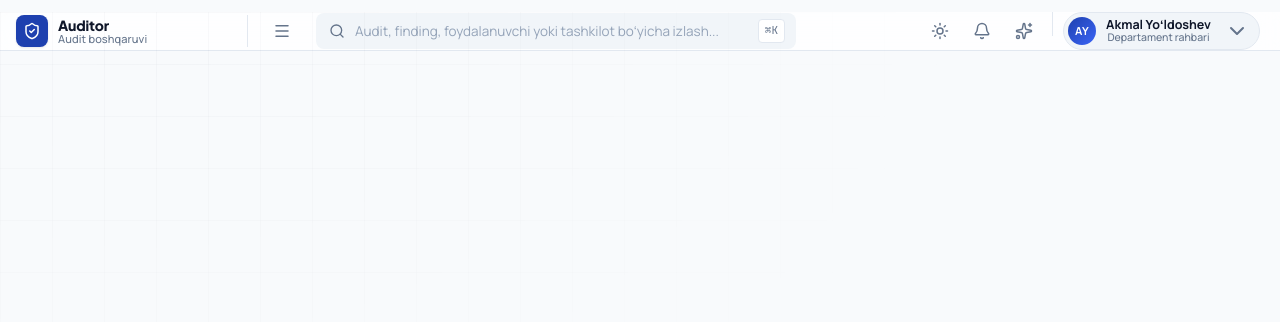
Test case: Topbar › opens the user menu and shows logout
The image size is (1280, 322).
Click the button "AY Akmal Yoʻldoshev Departament rahbari": (1162, 31) 1063,12 -> 1260,50
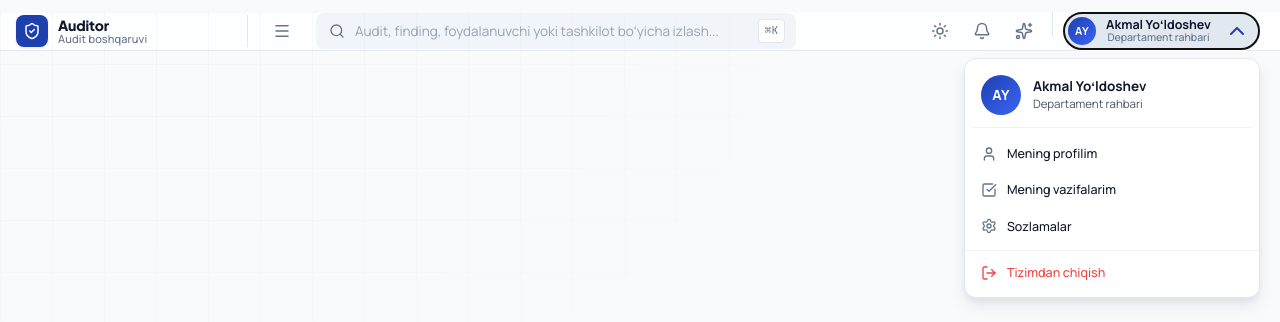
Expected: the menu item "Tizimdan chiqish" is shown, 971,255 -> 1253,290
